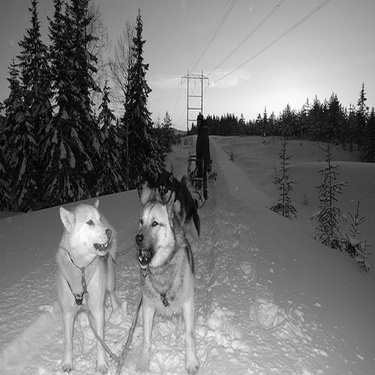dog: (116, 175, 214, 374), (41, 188, 129, 374), (153, 162, 208, 239), (116, 156, 168, 231)
